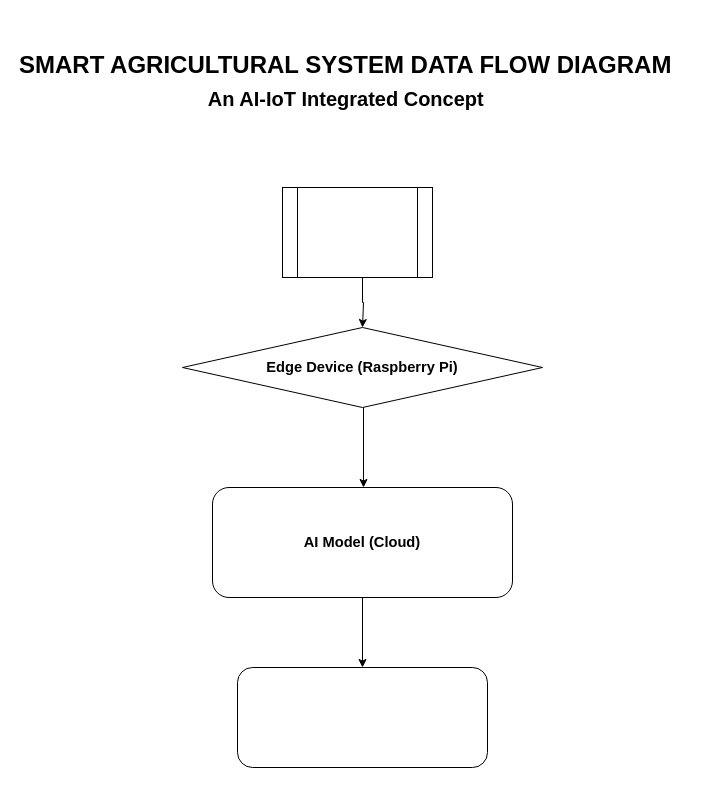
This 704x785 diagram has some shape labels left out. The shapes that lost their labels are listed below. From the top down, each one's box as (x1, y1, x2, y2) in pixels, then its label:
(282, 186, 432, 278): Field Sensors (IOT Sensors)
(236, 666, 488, 768): Farmer Dashboard (Mobile App)
